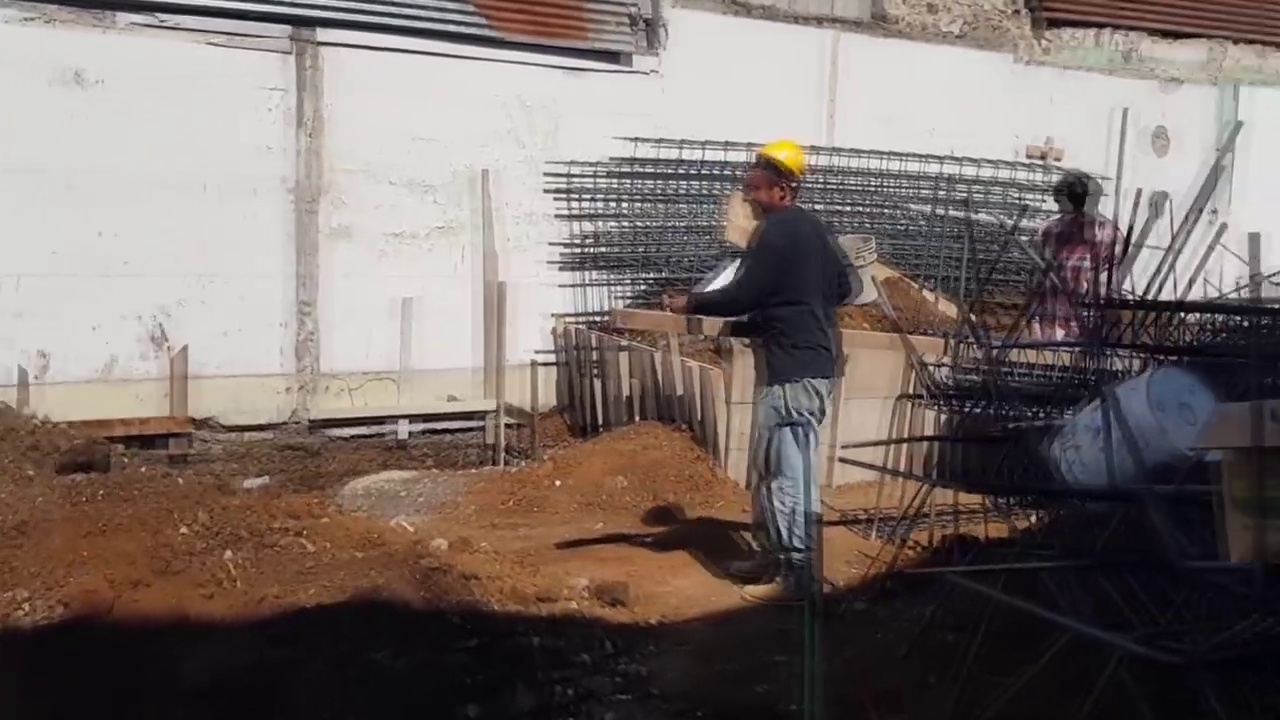helmet: (754, 137, 809, 182)
helmet-off: (1051, 169, 1111, 233)
helmet-on: (735, 138, 812, 220)
person: (675, 145, 864, 614), (1029, 158, 1124, 352)
